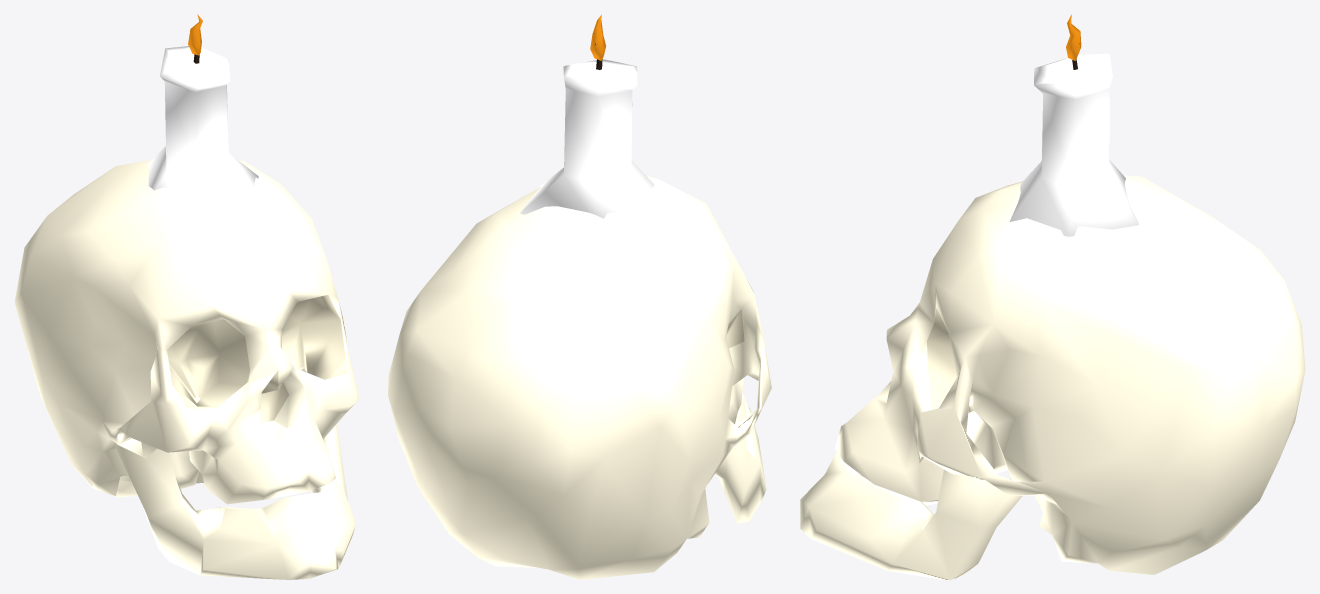
The model's file is CandleSkullShapeB.024.glb.
3 renders of one model, left to right at view 1: azimuth 30°, elevation 25°; view 2: azimuth 150°, elevation 25°; view 3: azimuth 270°, elevation 25°, orthographic. The views are drawn at different scales.
Parts seen in each view (by area): view 1: CandleSkullShapeB.024; view 2: CandleSkullShapeB.024; view 3: CandleSkullShapeB.024.
Part boxes in pixels (<box>): CandleSkullShapeB.024: <box>14,14,359,579</box>; CandleSkullShapeB.024: <box>388,14,771,579</box>; CandleSkullShapeB.024: <box>800,14,1305,579</box>.
Bounding box in the file's own units: 0.2005 × 0.3649 × 0.3132.
2 materials, 2 textured.
